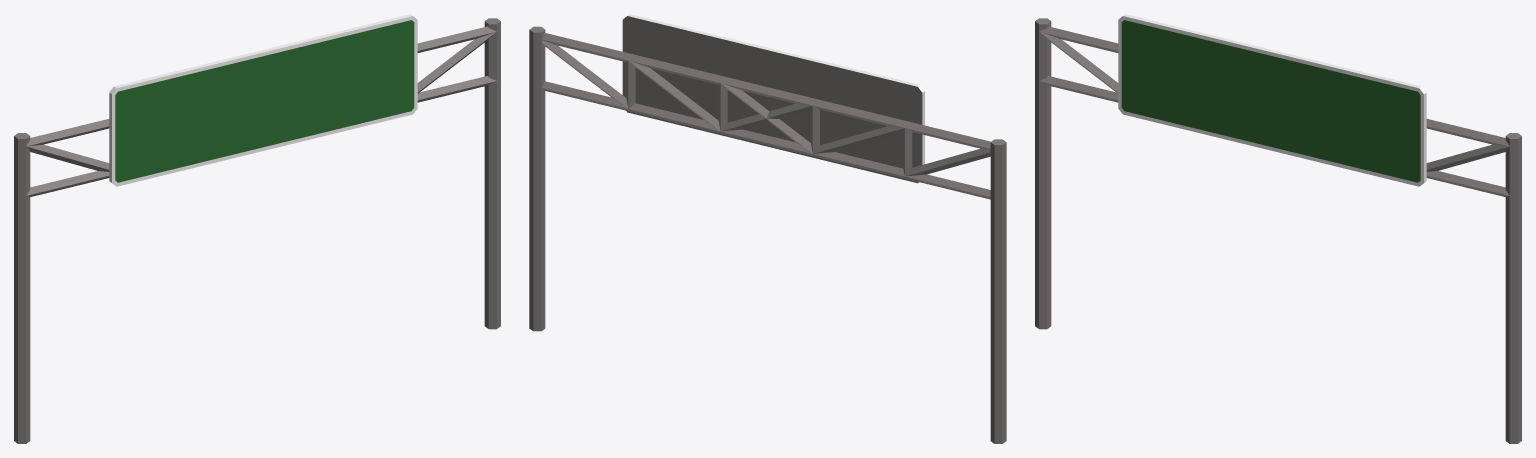
File: road-sign-green.fbx
The picture shows the model from 3 angles, left to right: view 1: azimuth 30°, elevation 25°; view 2: azimuth 150°, elevation 25°; view 3: azimuth 330°, elevation 25°; orthographic projection. The views are drawn at different scales.
Parts seen in each view (by area): view 1: road-sign-green; view 2: road-sign-green; view 3: road-sign-green.
Boxes of the visible parts, left/top/right/bottom form: road-sign-green: left=14, top=14, right=500, bottom=443; road-sign-green: left=529, top=14, right=1006, bottom=443; road-sign-green: left=1035, top=14, right=1521, bottom=443.
Size of the model in its own units: 10.26 by 6.84 by 0.422.
